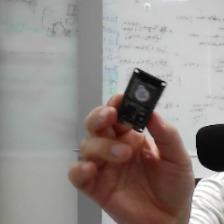esp32: (112, 64, 169, 136)
